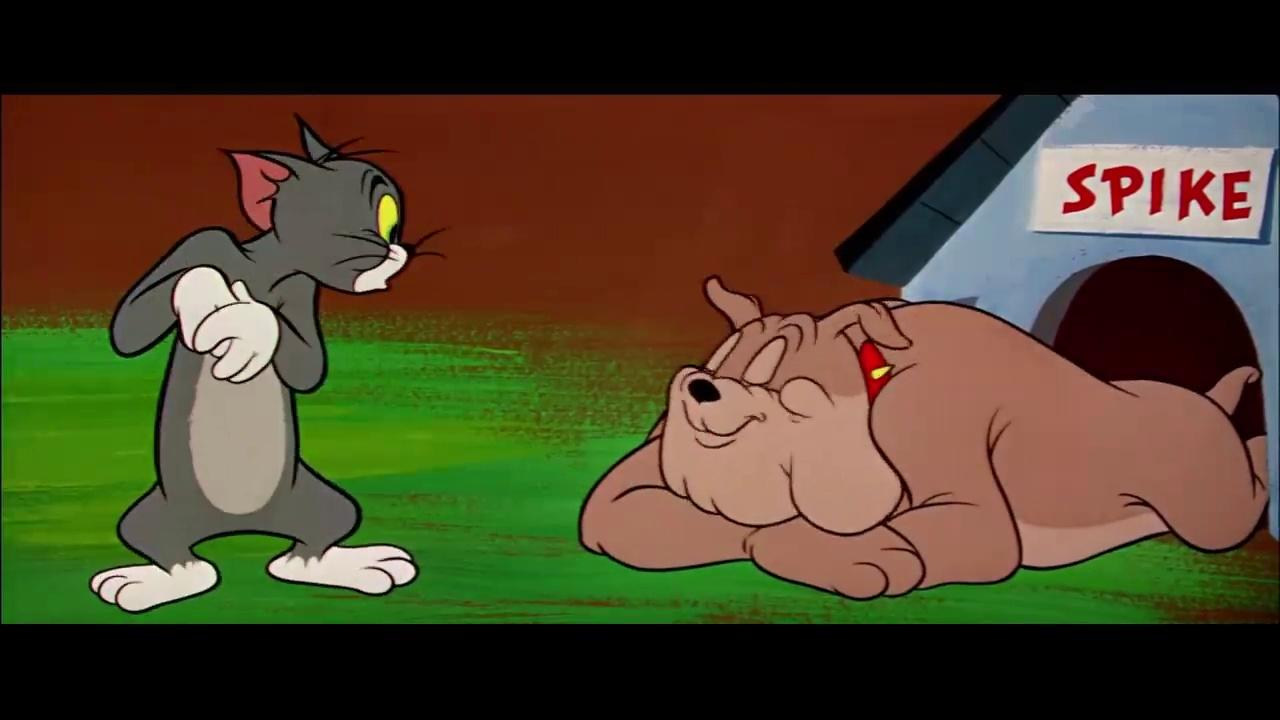Tom: (86, 107, 421, 615)
